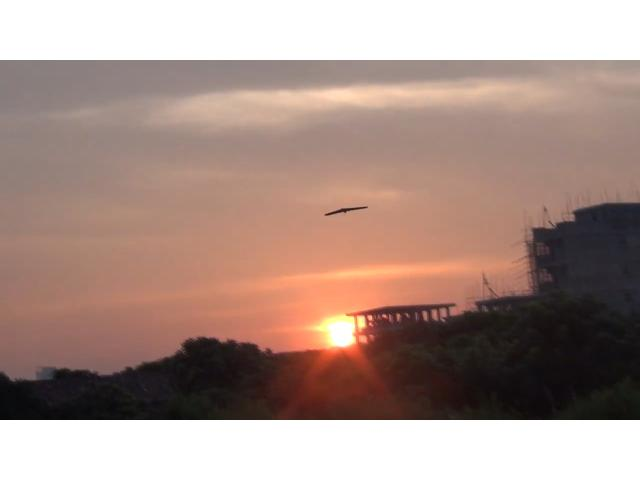Anti-Drone: (325, 207, 367, 217)
